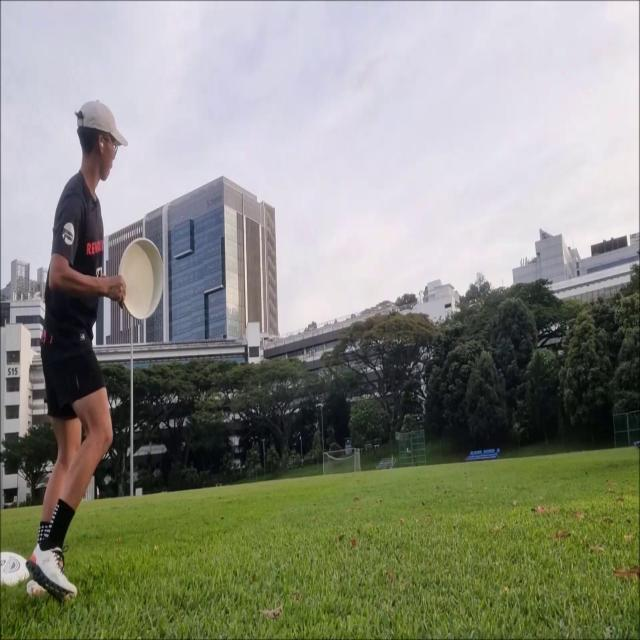disc: (118, 236, 164, 321)
